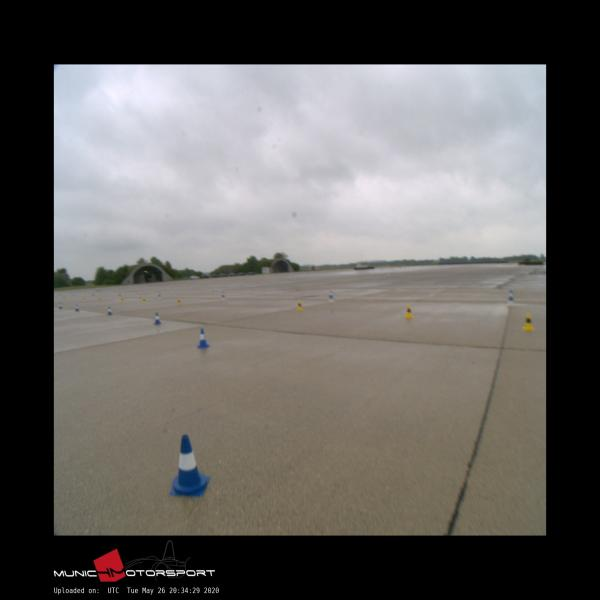blue_cone: (170, 436, 209, 496), (197, 328, 210, 348), (154, 312, 161, 324), (107, 306, 112, 315)
yellow_cone: (522, 313, 534, 330), (405, 305, 413, 318), (296, 301, 303, 310)
